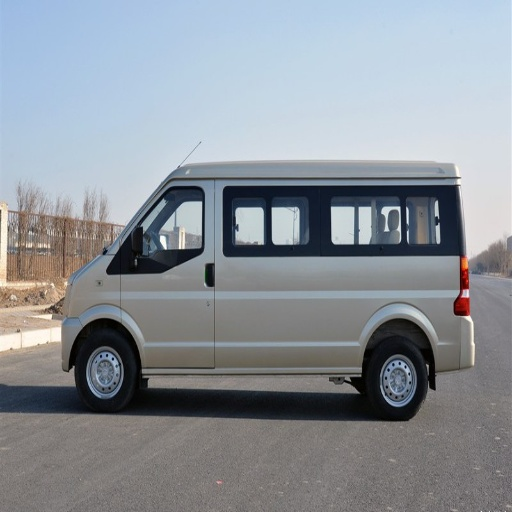back_left_door: (269, 188, 337, 363)
trunk: (336, 260, 467, 368)
